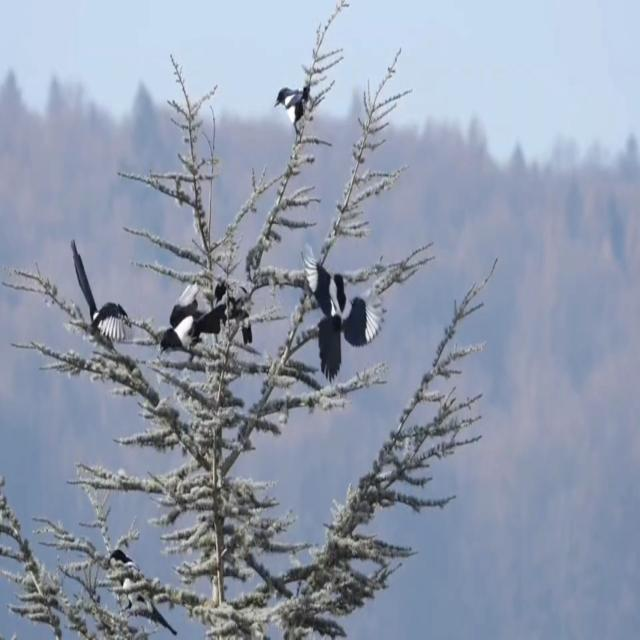bird: (296, 236, 387, 390), (62, 245, 135, 389), (193, 242, 264, 379), (99, 507, 159, 640), (150, 267, 208, 398), (270, 76, 327, 144)
